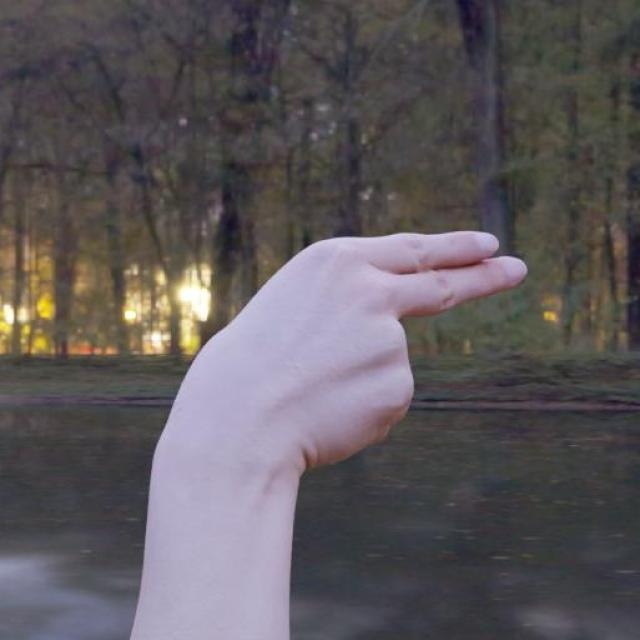H: (142, 219, 540, 512)
